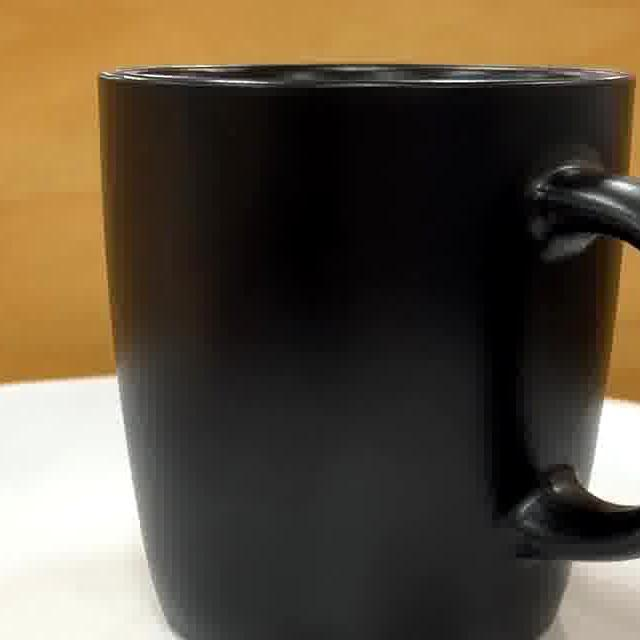cup: (106, 65, 640, 640)
